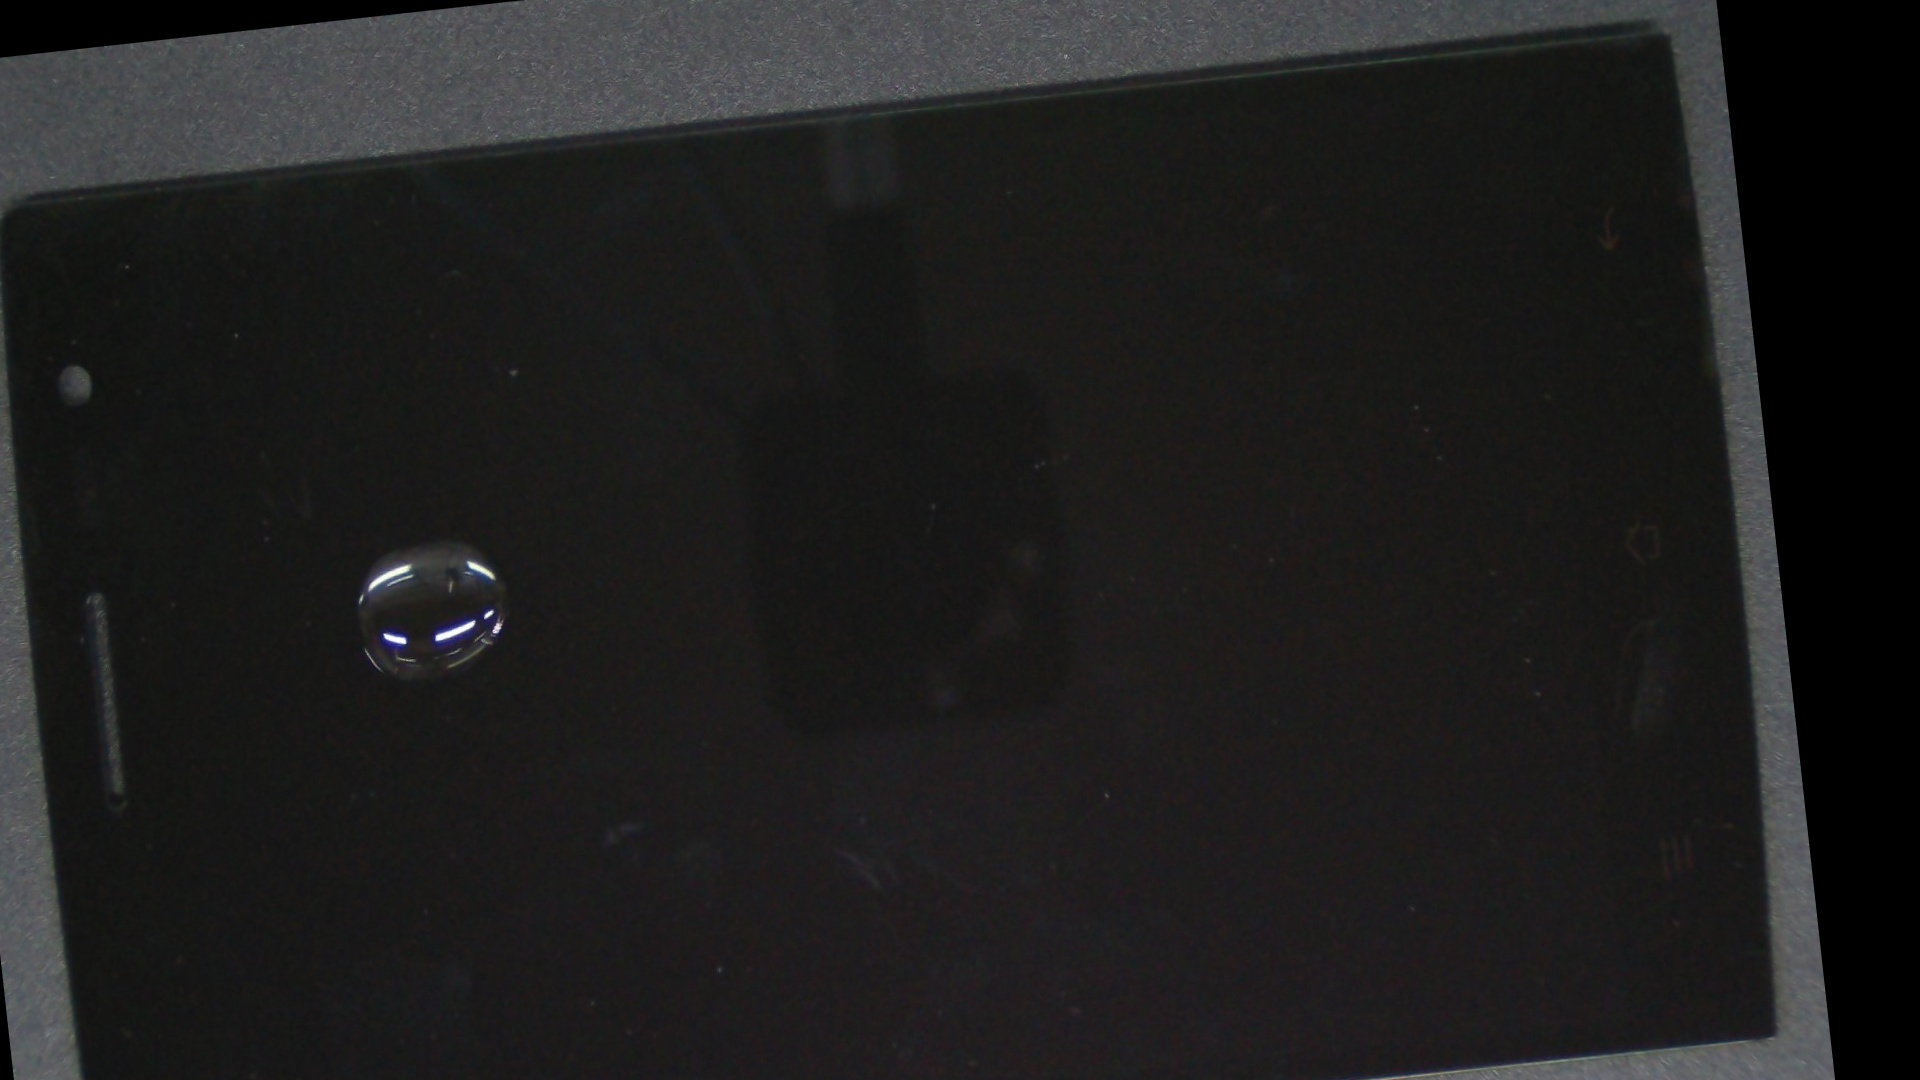oil: (165, 255, 688, 832)
